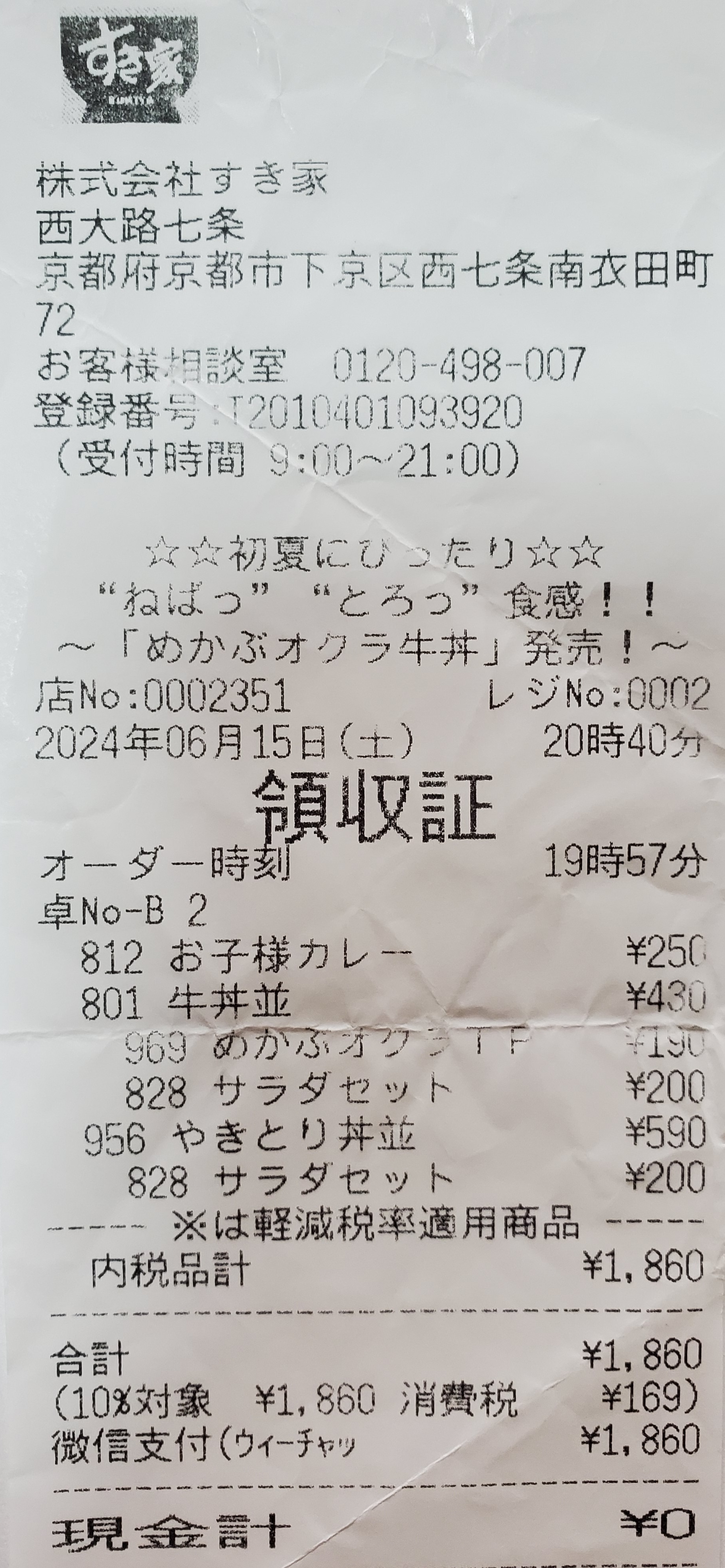Date: (30, 712, 336, 768)
Shopname: (46, 3, 256, 143)
Telnum: (324, 342, 602, 397)
Totalpay: (33, 1328, 725, 1378)
